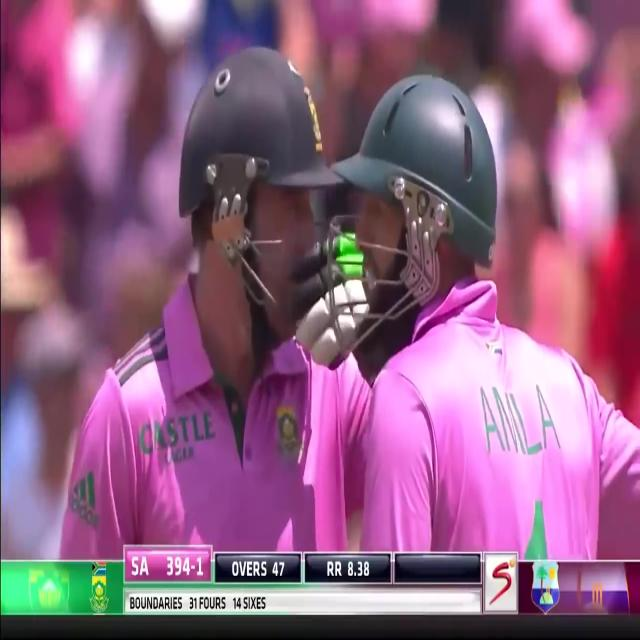Ball: (64, 48, 429, 560)
